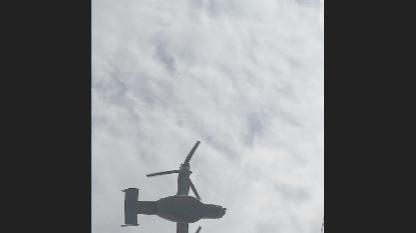Tornado: (118, 140, 228, 232)
